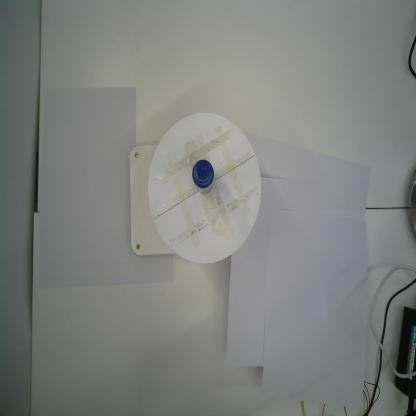Personal Hygiene: (190, 155, 216, 193)
